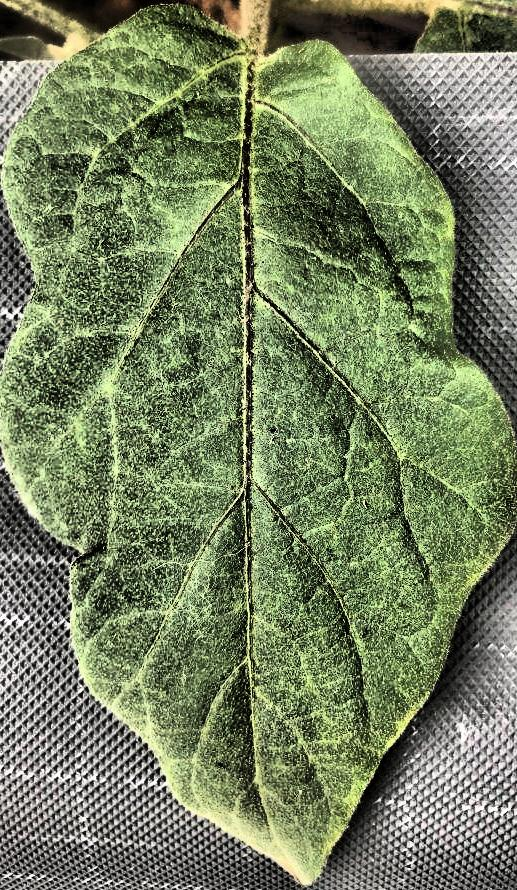HEALTHY: (0, 1, 517, 890)
